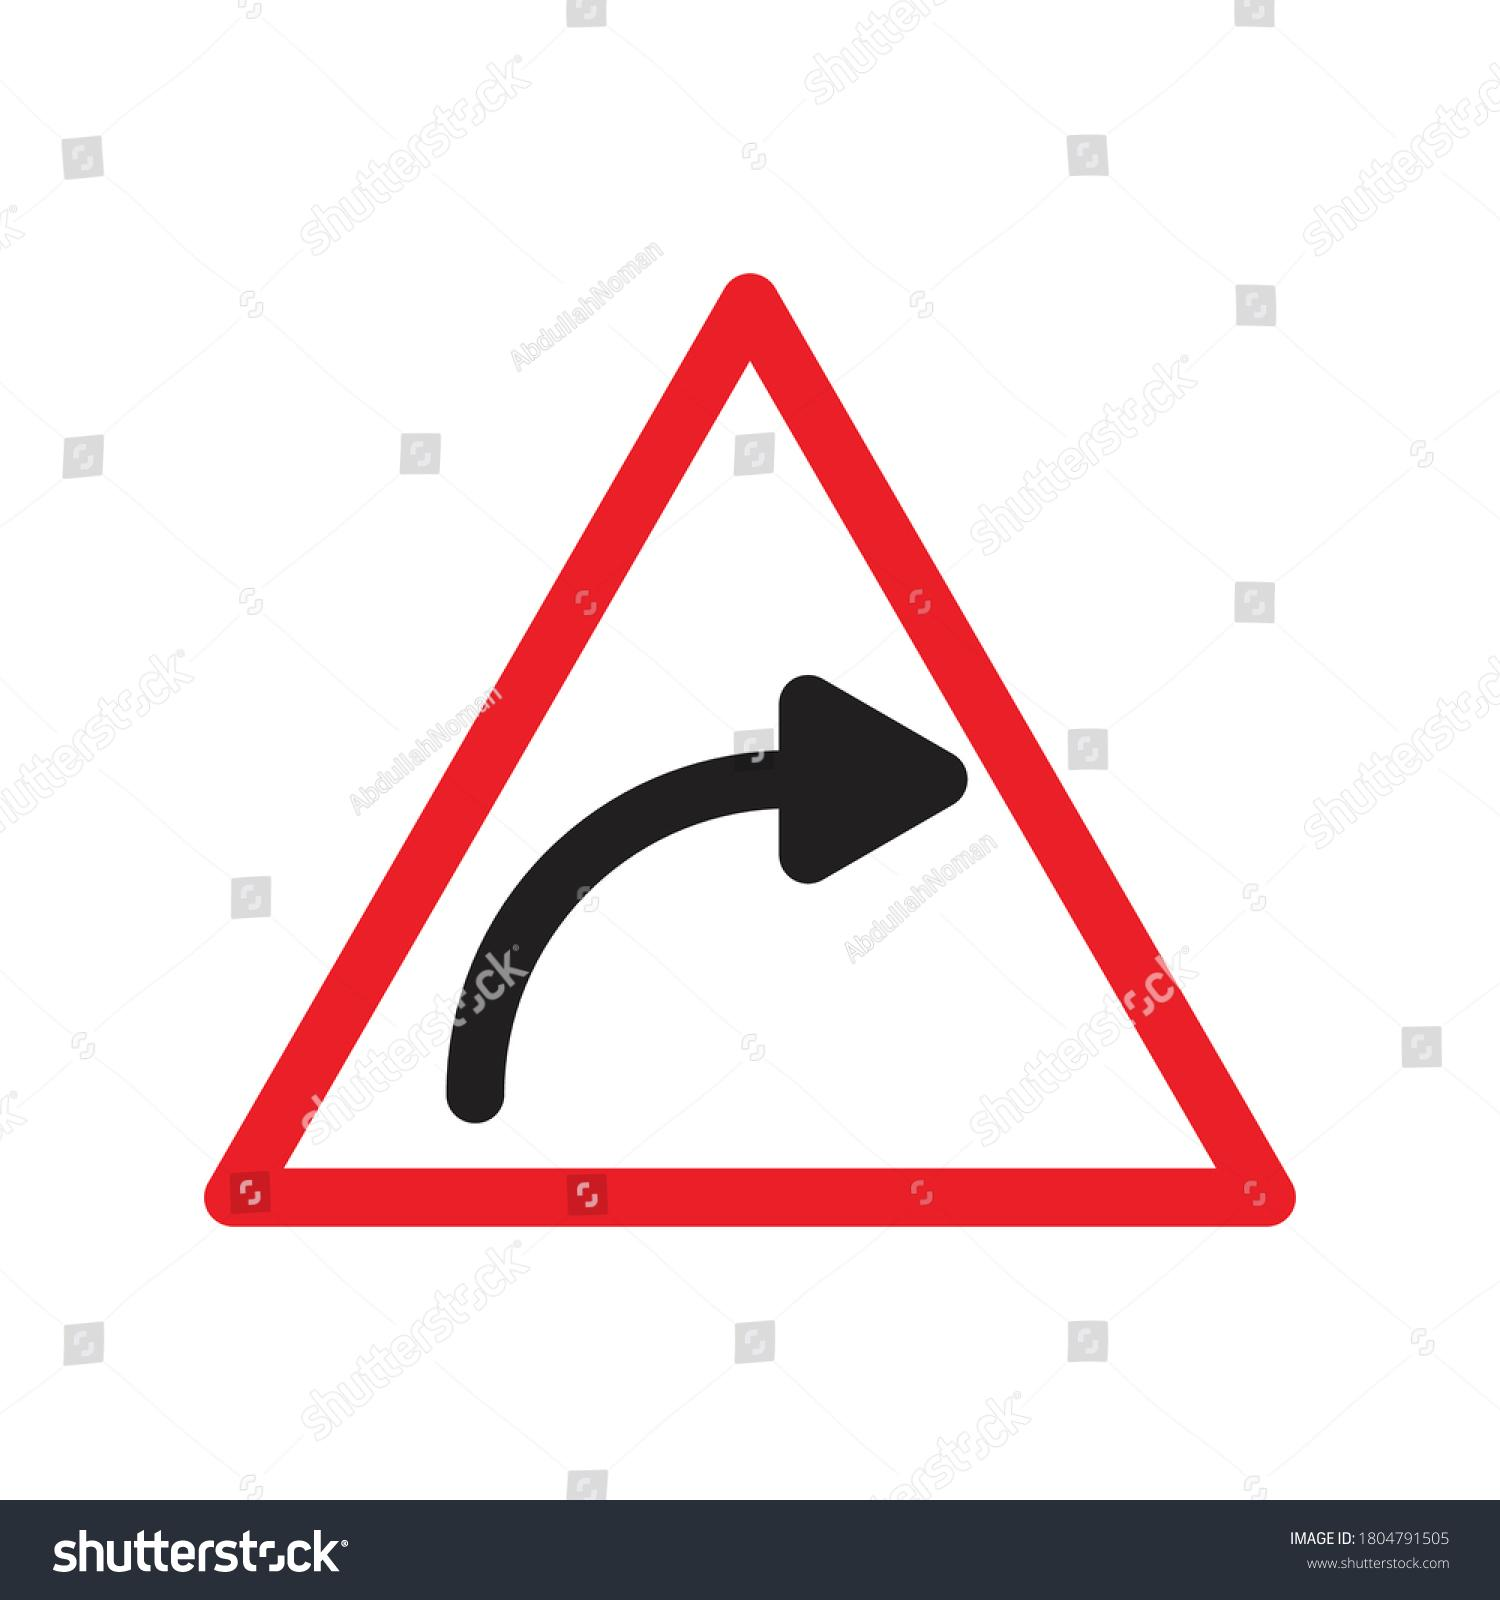Right Hand Curve: (148, 221, 1266, 1311)
